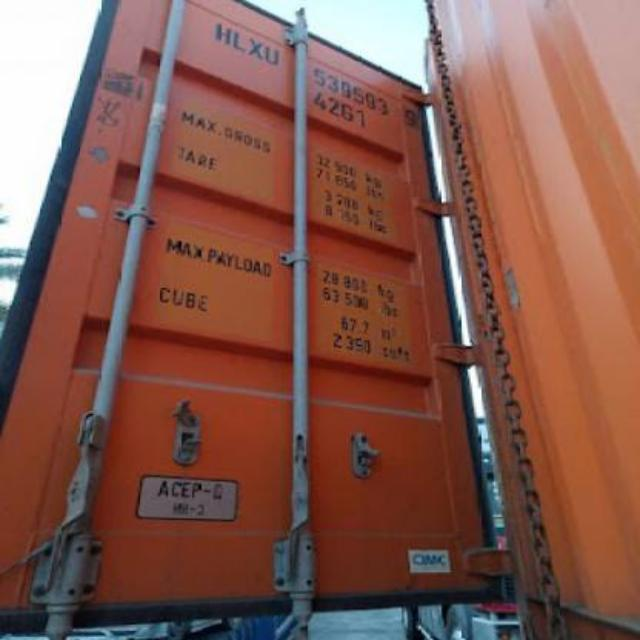3: (372, 89, 390, 119), (326, 66, 339, 94)
5: (308, 59, 326, 89), (352, 80, 366, 106)
9: (404, 99, 420, 128), (338, 75, 352, 102), (364, 86, 376, 114)
H: (208, 14, 232, 46)
L: (230, 26, 250, 54)
U: (265, 40, 281, 68)
X: (248, 28, 264, 64)
